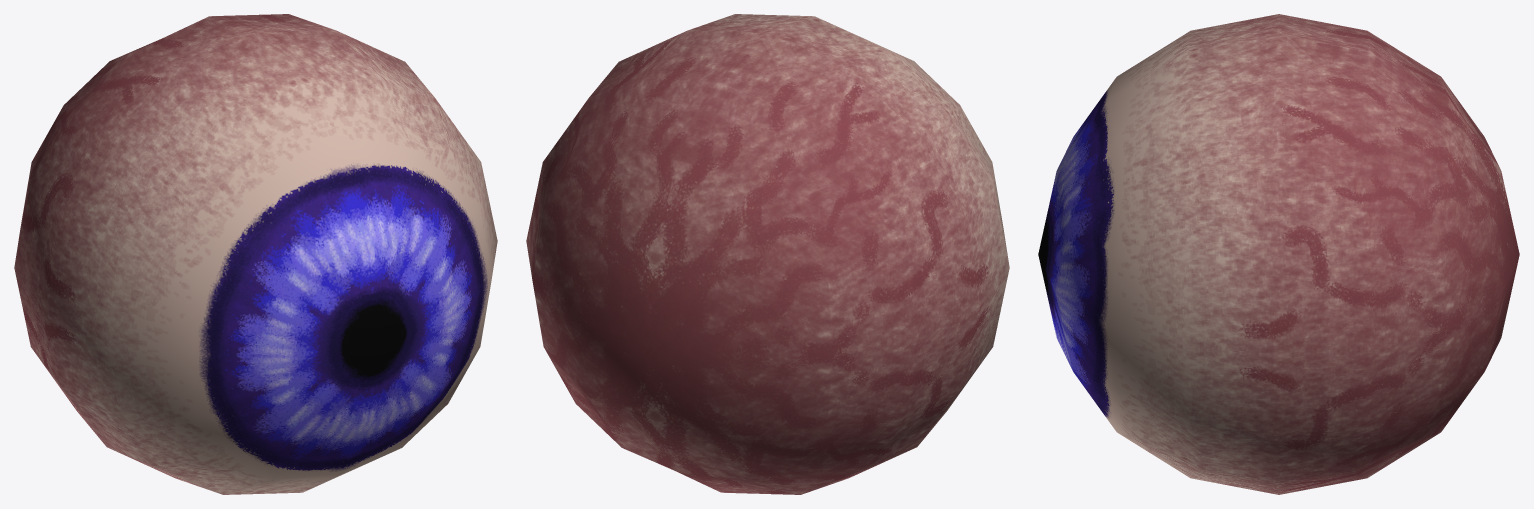
The model's file is Eye.fbx.
3 views of the same model, side by side, from view 1: azimuth 30°, elevation 25°; view 2: azimuth 150°, elevation 25°; view 3: azimuth 270°, elevation 25° (orthographic).
Parts seen in each view (by area): view 1: Cube; view 2: Cube; view 3: Cube.
Boxes of the visible parts, bbox=[...] form: Cube: bbox=[14, 14, 497, 494]; Cube: bbox=[526, 14, 1009, 494]; Cube: bbox=[1038, 14, 1519, 494].
Size of the model in its own units: 266 by 266 by 266.
1 material, 1 textured.
